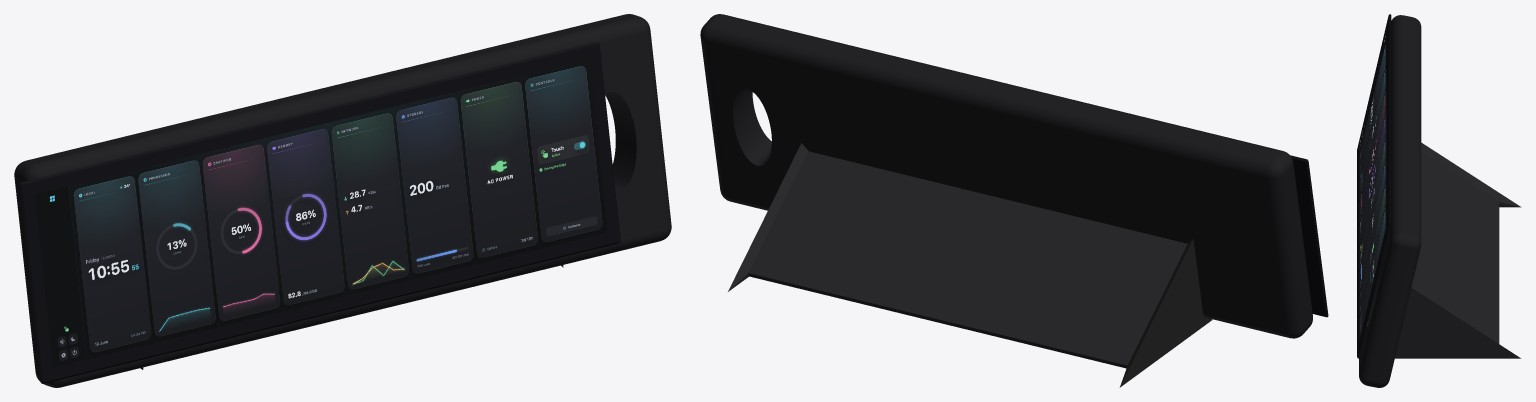
Rendered from xeneon-edge.glb.
3 renders of one model, left to right at view 1: azimuth 30°, elevation 25°; view 2: azimuth 150°, elevation 25°; view 3: azimuth 270°, elevation 25°, orthographic. The views are drawn at different scales.
Parts seen in each view (by area): view 1: Screen, Body, Glass; view 2: Body, Stand, Glass; view 3: Stand, Body, Screen, Glass.
Boxes of the visible parts, bbox=[...] form: Screen: bbox=[34, 59, 607, 367]; Body: bbox=[14, 14, 671, 387]; Glass: bbox=[19, 42, 620, 383]; Body: bbox=[700, 14, 1312, 338]; Stand: bbox=[728, 143, 1212, 387]; Glass: bbox=[1290, 155, 1328, 317]; Stand: bbox=[1395, 142, 1521, 358]; Body: bbox=[1359, 15, 1421, 387]; Screen: bbox=[1358, 28, 1386, 343]; Glass: bbox=[1357, 14, 1391, 358].
Bounding box in the file's own units: 0.3785 × 0.1223 × 0.1149.
Materials: 4 (1 with a texture image).
